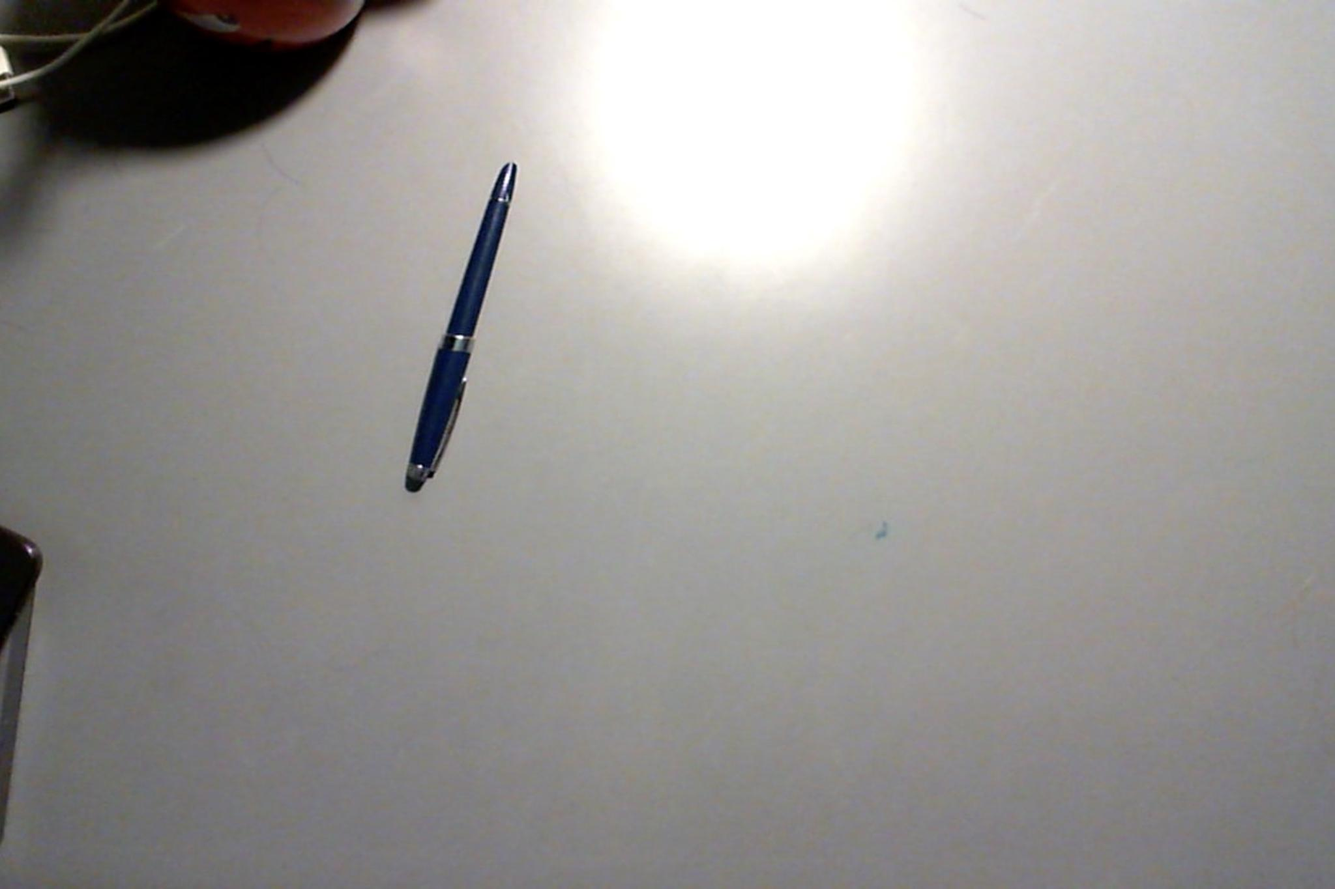pen-pencil: (404, 162, 517, 492)
